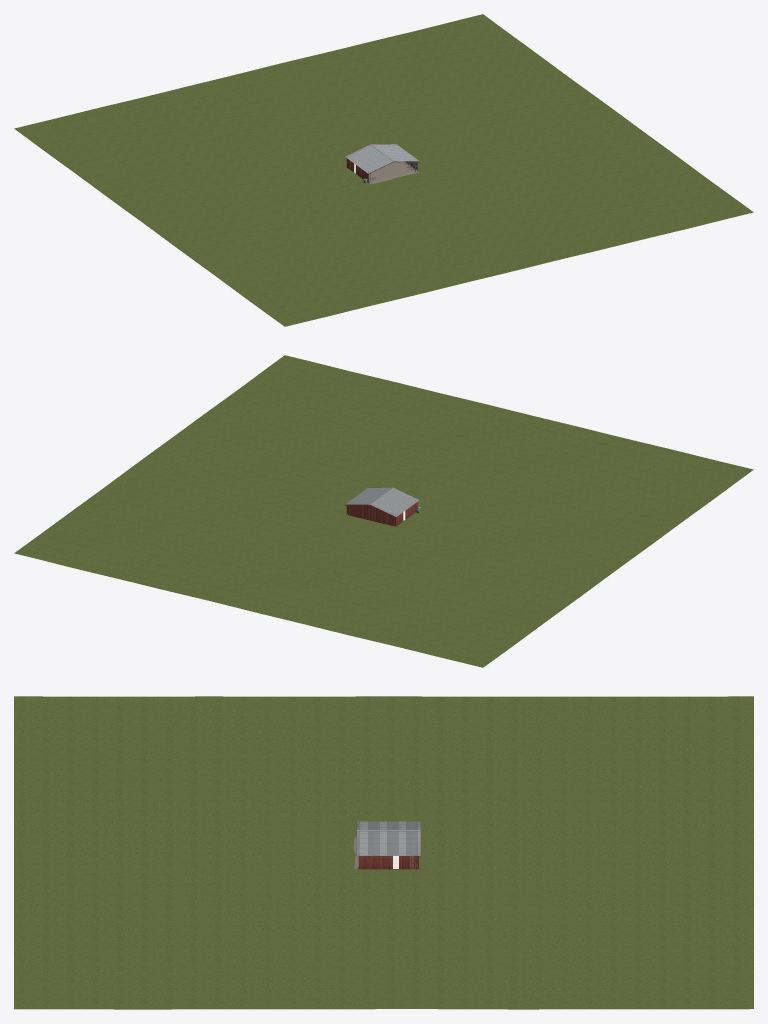
Rendered from hangar.glb.
The picture shows the model from 3 angles, top to bottom: view 1: azimuth 30°, elevation 25°; view 2: azimuth 150°, elevation 25°; view 3: azimuth 270°, elevation 25°; orthographic projection. The views are drawn at different scales.
Visible parts, largest first — view 1: Hangar_Ground, Hangar_Roof, Hangar_Floor; view 2: Hangar_Ground, Hangar_Roof, Hangar_RearWall_Planks; view 3: Hangar_Ground, Hangar_Roof, Hangar_Siding_Ext.
Boxes of the visible parts, bbox=[...] form: Hangar_Ground: bbox=[14, 14, 753, 326]; Hangar_Roof: bbox=[345, 144, 418, 173]; Hangar_Floor: bbox=[354, 162, 418, 184]; Hangar_Ground: bbox=[14, 355, 753, 667]; Hangar_Roof: bbox=[345, 487, 419, 516]; Hangar_RearWall_Planks: bbox=[346, 505, 395, 526]; Hangar_Ground: bbox=[14, 696, 753, 1009]; Hangar_Roof: bbox=[356, 821, 420, 855]; Hangar_Siding_Ext: bbox=[358, 821, 420, 869].
Size of the model in its own units: 120 by 4.14 by 120.
21 materials, 8 textured.
